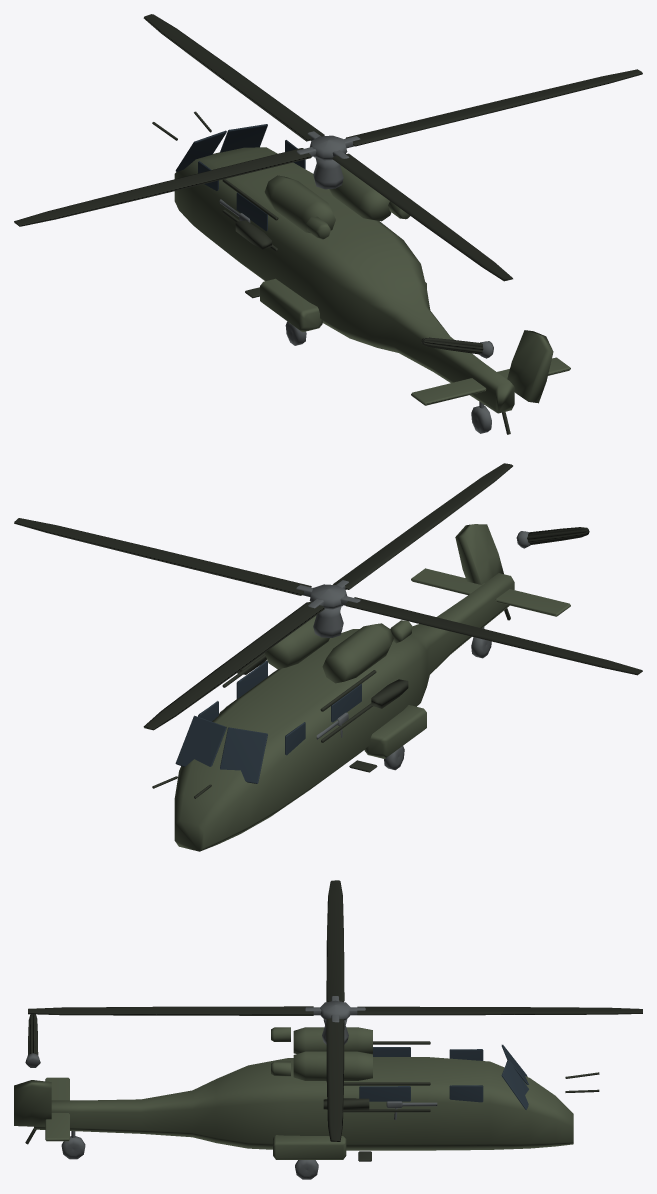
The model's file is utility_helicopter.glb.
The picture shows the model from 3 angles, top to bottom: view 1: azimuth 30°, elevation 25°; view 2: azimuth 150°, elevation 25°; view 3: azimuth 270°, elevation 25°; orthographic projection. The views are drawn at different scales.
Visible parts, largest first — view 1: Hull, Rotor_MainBlades, Glass, Metal, Trim, Rotor_MainHub, Rotor_TailBlades; view 2: Hull, Rotor_MainBlades, Glass, Trim, Metal, Rotor_MainHub, Rotor_TailBlades; view 3: Hull, Rotor_MainBlades, Glass, Trim, Metal, Rotor_MainHub.
Part boxes in pixels (left/top/right/bottom): Hull: left=174, top=147, right=570, bottom=413; Rotor_MainBlades: left=14, top=14, right=642, bottom=281; Glass: left=175, top=124, right=305, bottom=231; Metal: left=285, top=158, right=491, bottom=433; Trim: left=152, top=111, right=510, bottom=434; Rotor_MainHub: left=296, top=131, right=360, bottom=160; Rotor_TailBlades: left=421, top=337, right=483, bottom=354; Hull: left=174, top=524, right=570, bottom=851; Rotor_MainBlades: left=14, top=463, right=642, bottom=730; Glass: left=175, top=660, right=361, bottom=783; Trim: left=152, top=608, right=510, bottom=798; Metal: left=313, top=607, right=491, bottom=770; Rotor_MainHub: left=296, top=580, right=360, bottom=609; Rotor_TailBlades: left=527, top=527, right=589, bottom=544; Hull: left=14, top=1027, right=573, bottom=1159; Rotor_MainBlades: left=28, top=880, right=642, bottom=1141; Glass: left=359, top=1044, right=528, bottom=1109; Trim: left=25, top=1041, right=599, bottom=1161; Metal: left=61, top=1019, right=348, bottom=1179; Rotor_MainHub: left=305, top=996, right=365, bottom=1022.
Size of what is drawn, in the model's own units: 15.5 by 4.25 by 15.85.
